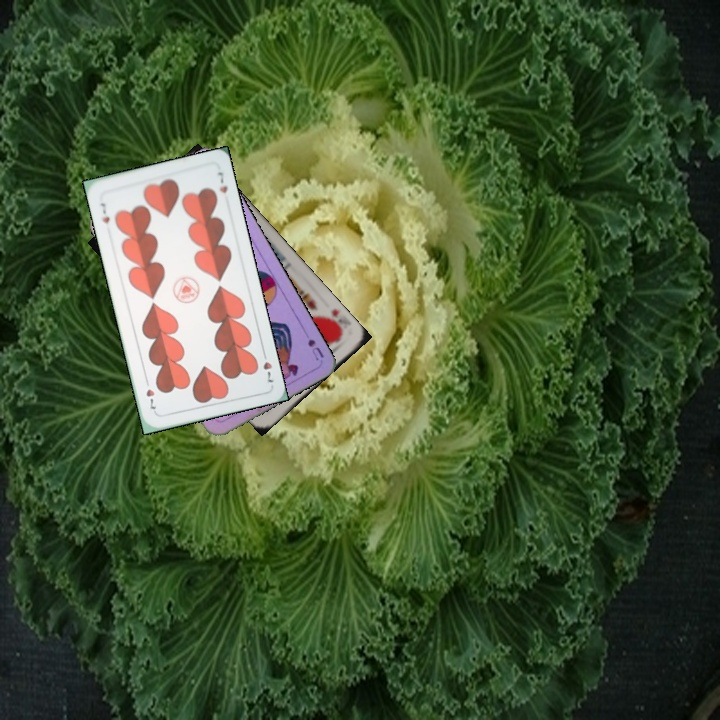H7: (258, 347, 276, 385), (96, 199, 112, 226)
HK: (323, 304, 347, 337)
SU: (303, 335, 326, 363)
